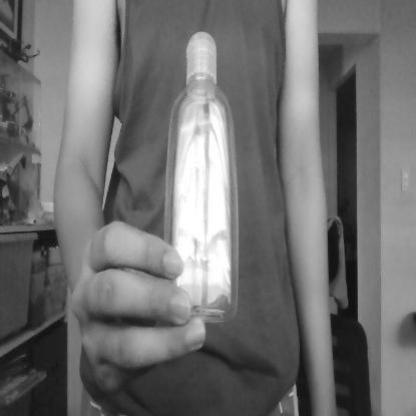Plastic Bottle: (166, 28, 238, 329)
